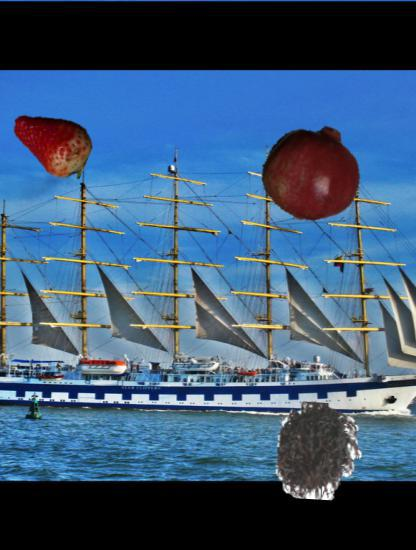Pomegranate: (263, 122, 363, 222)
Rambutan: (269, 402, 367, 500)
Strawberry: (9, 102, 92, 185)
